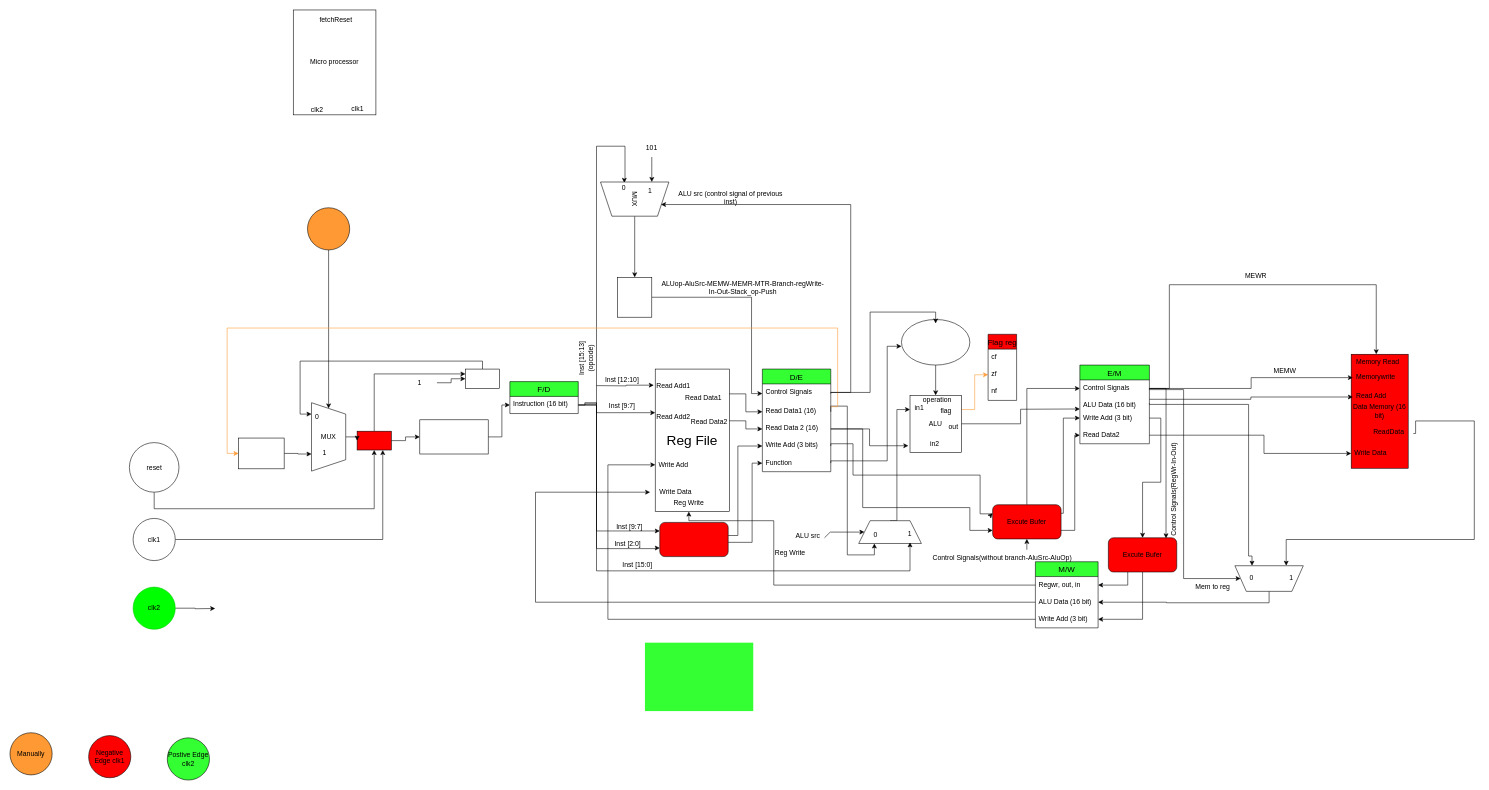
The diagram is 1489 pixels wide and 790 high, and some of its shapes have lost their labels. Each missing label, with the centre of its shape:
ADD: (482,378)
ALU Control: (935,342)
branch: (328,228)
Code Memory: (453,436)
CU: (634,297)
Decode buffer: (693,539)
PC (32): (374,440)
Reg File write +ve Read -ve clk1: (699,676)
SignExtend: (261,453)
